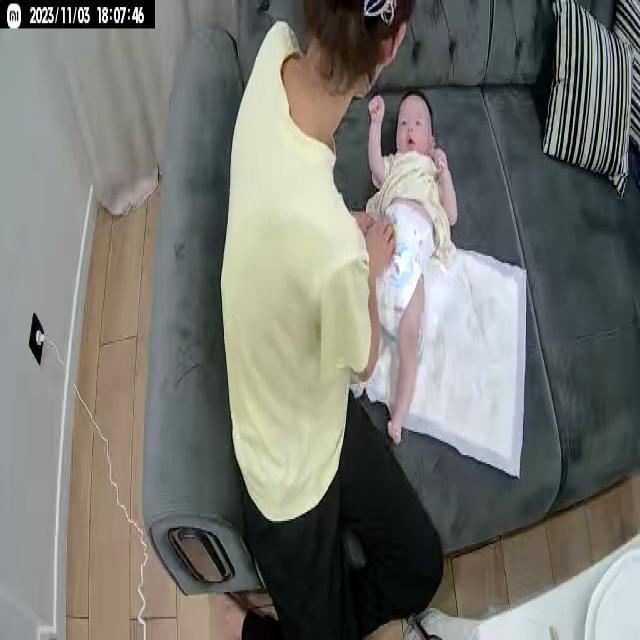baby: (346, 89, 458, 453)
